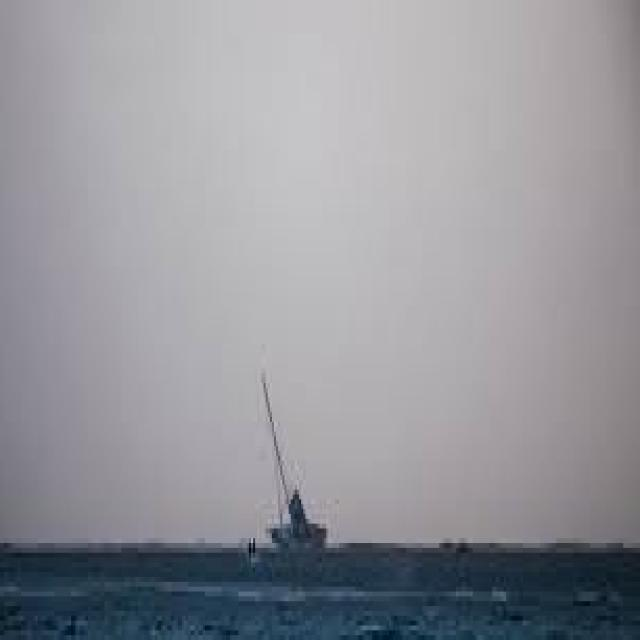fishing boat: (236, 395, 337, 559)
